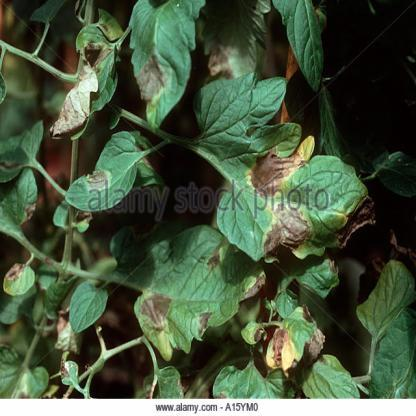Tomato leaf mosaic virus: (190, 74, 364, 268), (108, 221, 268, 354), (41, 23, 126, 135), (62, 129, 146, 224), (242, 290, 323, 379)
